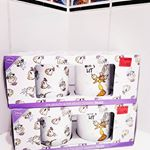cups: (27, 63, 72, 100), (31, 114, 75, 147)
